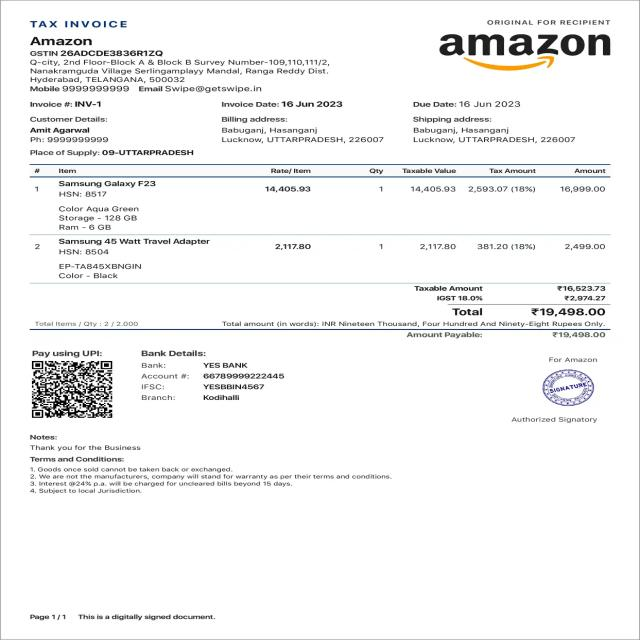QRCode: (29, 358, 116, 419)
